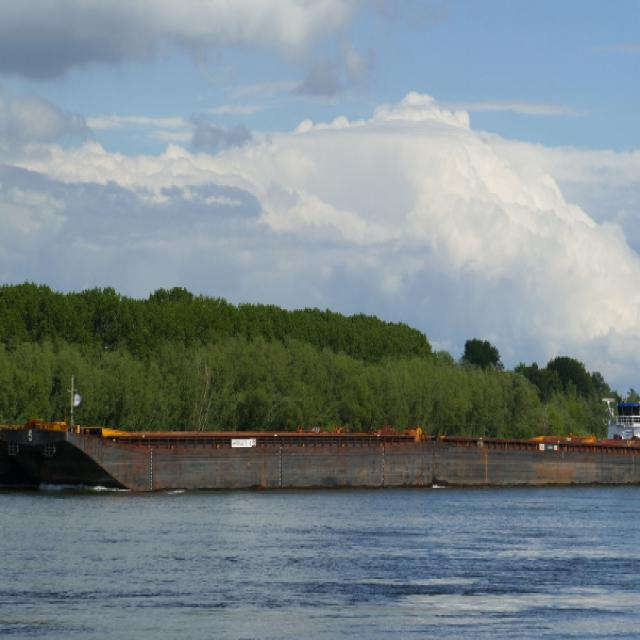tugboat: (596, 395, 640, 494)
